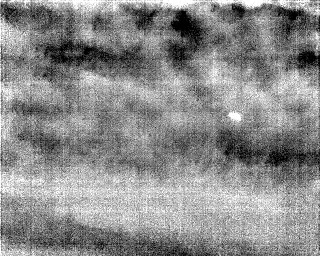BIRD: (226, 109, 244, 125)
